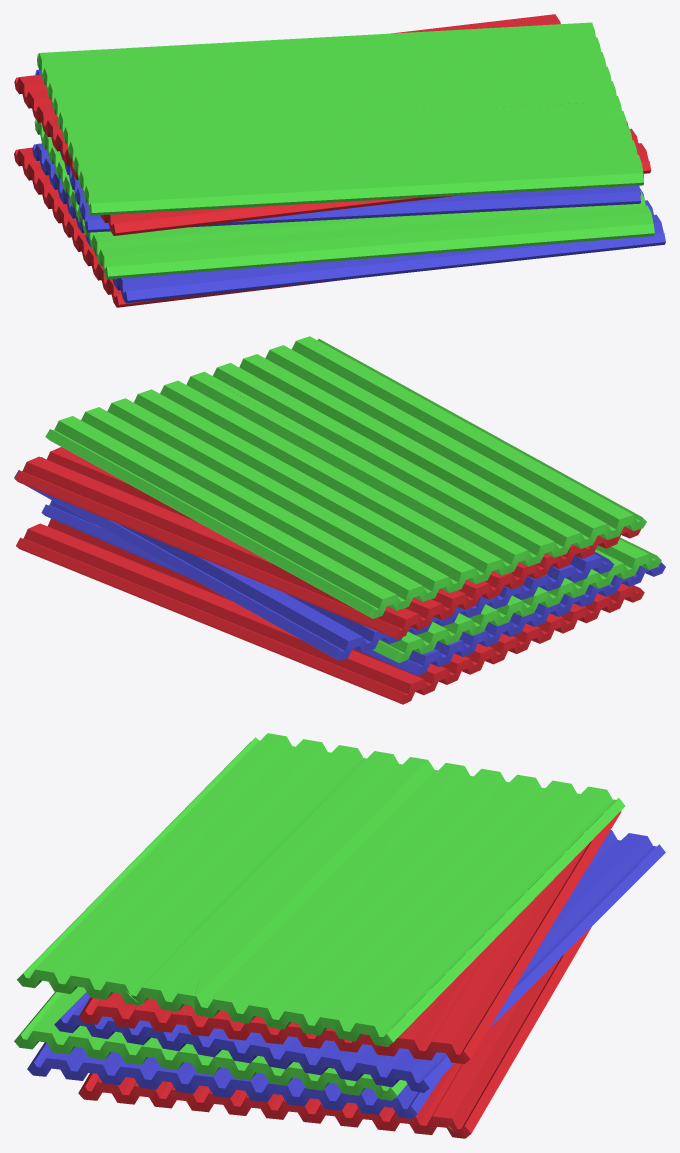
Rendered from corrugatedBoard.fbx.
The picture shows the model from 3 angles, top to bottom: view 1: azimuth 30°, elevation 25°; view 2: azimuth 150°, elevation 25°; view 3: azimuth 270°, elevation 25°; orthographic projection. The views are drawn at different scales.
Visible parts, largest first — view 1: CorrugatedBoard.003_cell, CorrugatedBoard.003_cell.001, CorrugatedBoard.004_cell.001, CorrugatedBoard.004_cell.002, CorrugatedBoard.001_cell.002, CorrugatedBoard.002_cell.002, CorrugatedBoard.005_cell.001, CorrugatedBoard.006_cell.001, CorrugatedBoard.006_cell.002, CorrugatedBoard.005_cell, CorrugatedBoard.003_cell.002, CorrugatedBoard.005_cell.002 (+2 smaller); view 2: CorrugatedBoard.003_cell.001, CorrugatedBoard.003_cell, CorrugatedBoard.006_cell.001, CorrugatedBoard.005_cell, CorrugatedBoard.002_cell, CorrugatedBoard.005_cell.001, CorrugatedBoard.004_cell.001, CorrugatedBoard.001_cell.001, CorrugatedBoard.004_cell, CorrugatedBoard.006_cell.002, CorrugatedBoard.001_cell, CorrugatedBoard.002_cell.002 (+2 smaller); view 3: CorrugatedBoard.003_cell.001, CorrugatedBoard.003_cell, CorrugatedBoard.002_cell, CorrugatedBoard.005_cell, CorrugatedBoard.006_cell.001, CorrugatedBoard.004_cell.002, CorrugatedBoard.001_cell.002, CorrugatedBoard.006_cell.002, CorrugatedBoard.001_cell.001, CorrugatedBoard.005_cell.002, CorrugatedBoard.002_cell.002, CorrugatedBoard.003_cell.002 (+1 smaller).
Part boxes in pixels (x1=…): CorrugatedBoard.003_cell: x1=64, y1=103, x2=643, y2=215; CorrugatedBoard.003_cell.001: x1=37, y1=22, x2=618, y2=141; CorrugatedBoard.004_cell.001: x1=57, y1=161, x2=379, y2=279; CorrugatedBoard.004_cell.002: x1=368, y1=191, x2=654, y2=257; CorrugatedBoard.001_cell.002: x1=95, y1=188, x2=665, y2=303; CorrugatedBoard.002_cell.002: x1=76, y1=185, x2=640, y2=232; CorrugatedBoard.005_cell.001: x1=14, y1=74, x2=383, y2=235; CorrugatedBoard.006_cell.001: x1=14, y1=147, x2=85, y2=251; CorrugatedBoard.006_cell.002: x1=81, y1=239, x2=350, y2=307; CorrugatedBoard.005_cell: x1=391, y1=14, x2=560, y2=33; CorrugatedBoard.003_cell.002: x1=584, y1=97, x2=628, y2=127; CorrugatedBoard.005_cell.002: x1=382, y1=121, x2=651, y2=204; CorrugatedBoard.003_cell.001: x1=45, y1=376, x2=514, y2=618; CorrugatedBoard.003_cell: x1=221, y1=336, x2=646, y2=571; CorrugatedBoard.006_cell.001: x1=21, y1=518, x2=560, y2=704; CorrugatedBoard.005_cell: x1=14, y1=447, x2=275, y2=585; CorrugatedBoard.002_cell: x1=14, y1=457, x2=505, y2=660; CorrugatedBoard.005_cell.001: x1=267, y1=526, x2=641, y2=639; CorrugatedBoard.004_cell.001: x1=477, y1=537, x2=661, y2=633; CorrugatedBoard.001_cell.001: x1=41, y1=500, x2=480, y2=675; CorrugatedBoard.004_cell: x1=372, y1=612, x2=483, y2=663; CorrugatedBoard.006_cell.002: x1=548, y1=583, x2=644, y2=633; CorrugatedBoard.001_cell: x1=478, y1=594, x2=581, y2=646; CorrugatedBoard.002_cell.002: x1=547, y1=552, x2=614, y2=588; CorrugatedBoard.003_cell.001: x1=194, y1=760, x2=625, y2=1046; CorrugatedBoard.003_cell: x1=17, y1=733, x2=427, y2=1005; CorrugatedBoard.002_cell: x1=132, y1=830, x2=665, y2=1092; CorrugatedBoard.005_cell: x1=184, y1=882, x2=570, y2=1064; CorrugatedBoard.006_cell.001: x1=340, y1=927, x2=591, y2=1138; CorrugatedBoard.004_cell.002: x1=14, y1=986, x2=407, y2=1100; CorrugatedBoard.001_cell.002: x1=27, y1=1042, x2=287, y2=1103; CorrugatedBoard.006_cell.002: x1=78, y1=1073, x2=340, y2=1123; CorrugatedBoard.001_cell.001: x1=285, y1=1075, x2=442, y2=1118; CorrugatedBoard.005_cell.002: x1=78, y1=992, x2=188, y2=1032; CorrugatedBoard.002_cell.002: x1=54, y1=992, x2=147, y2=1043; CorrugatedBoard.003_cell.002: x1=120, y1=979, x2=199, y2=1011.
Bounding box in the file's own units: 2.84 × 3.17 × 0.5424.
